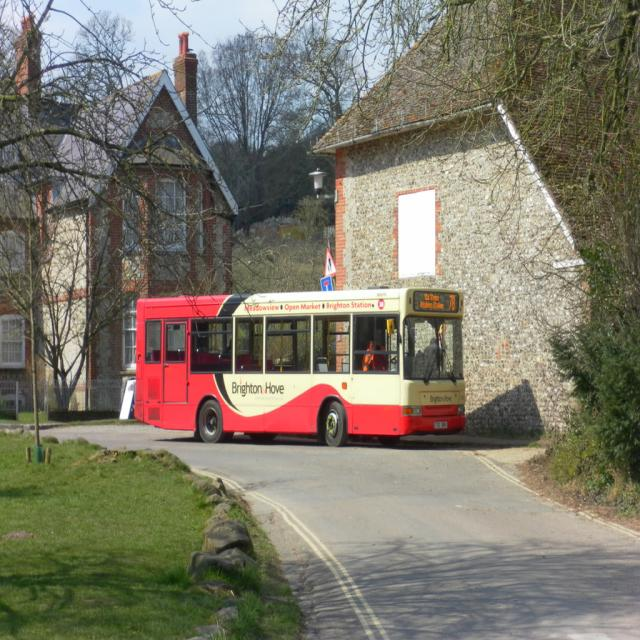Buses: (135, 287, 463, 448)
